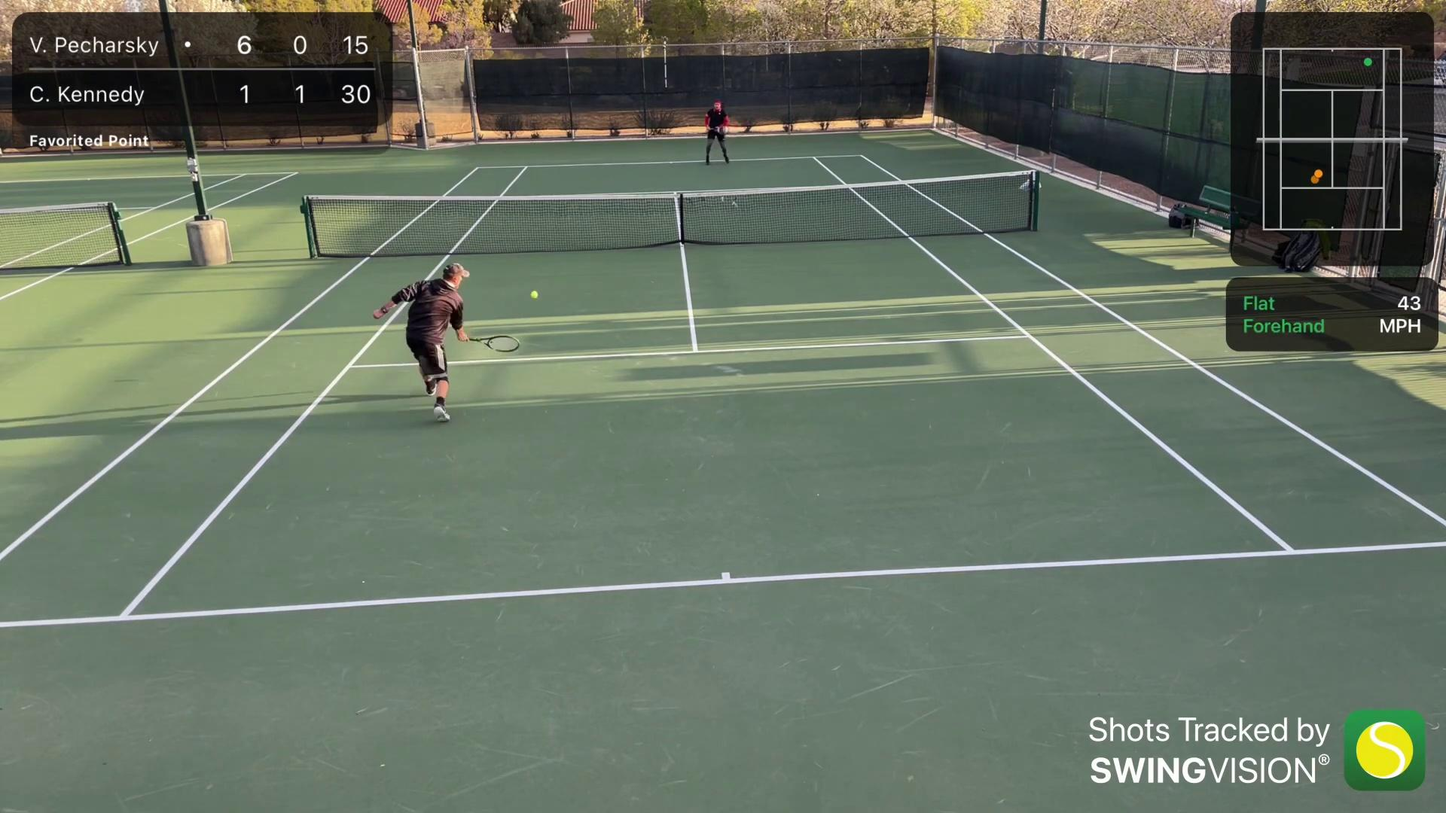ball: (435, 403, 446, 417), (527, 289, 541, 300)
